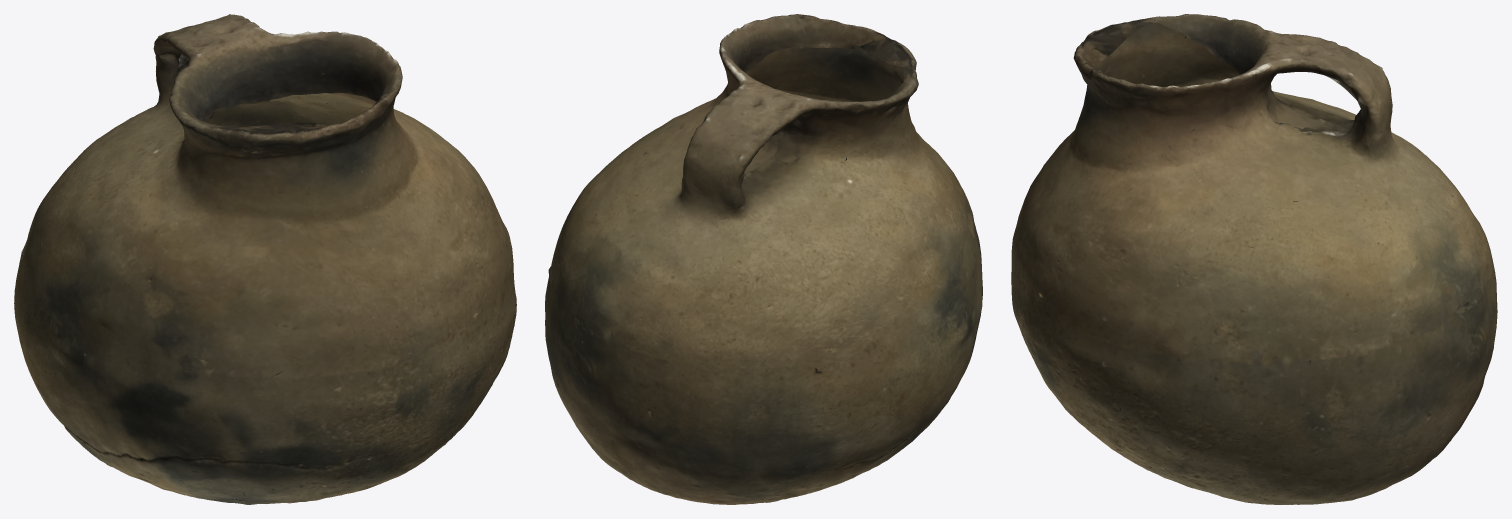
File: vasija2.gltf
The picture shows the model from 3 angles, left to right: view 1: azimuth 30°, elevation 25°; view 2: azimuth 150°, elevation 25°; view 3: azimuth 270°, elevation 25°; orthographic projection. The views are drawn at different scales.
Visible parts, largest first — view 1: texturedMesh.001; view 2: texturedMesh.001; view 3: texturedMesh.001.
Part boxes in pixels (x1,y1,x2,y2): texturedMesh.001: [14, 14, 516, 504]; texturedMesh.001: [545, 14, 982, 504]; texturedMesh.001: [1011, 14, 1497, 504].
Size of the model in its own units: 1.55 by 1.54 by 1.62.
1 material, 1 textured.
